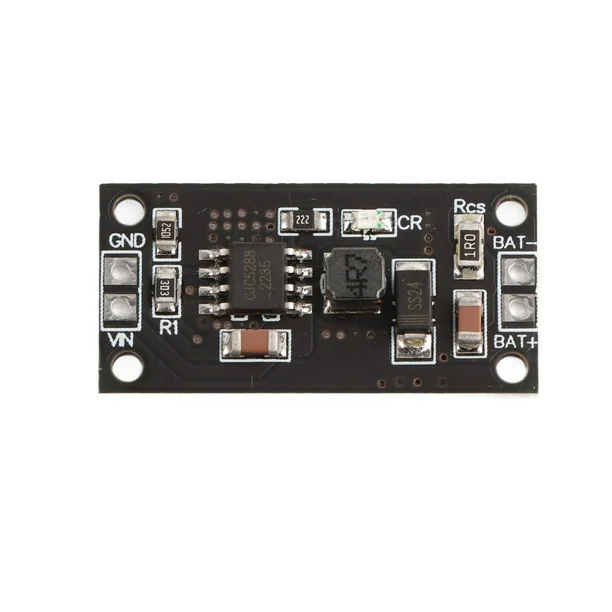Induktor: (322, 247, 386, 312)
